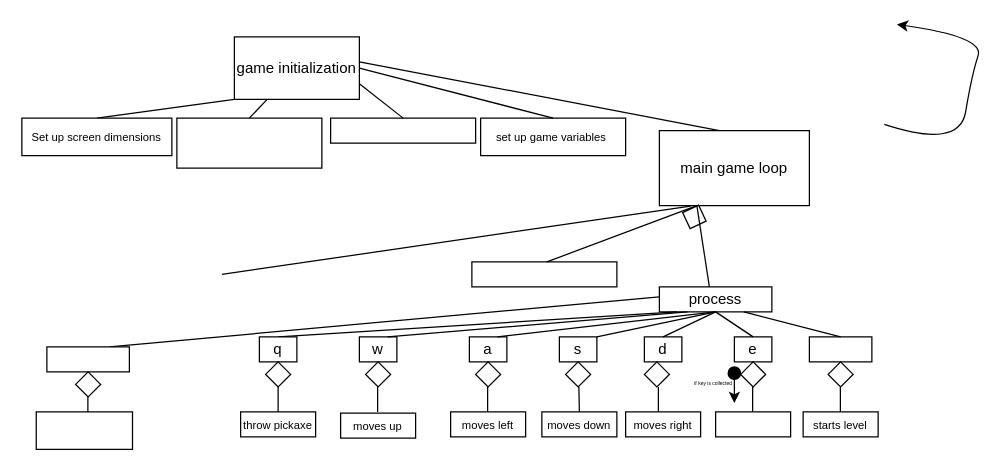
Some shapes in this 1001 by 473 pixel diagram are drawn without their labels. Each missing label, with the box of its shape:
Display background, player, dark overlay: (176, 117, 322, 168)
ENTER: (808, 336, 872, 362)
enters door: (714, 411, 791, 437)
key pressed: (471, 261, 617, 287)
Set up FONTS: (329, 117, 476, 143)
SHIFT + Enter: (46, 346, 129, 372)
start HARDCORE mode: (35, 411, 132, 449)
